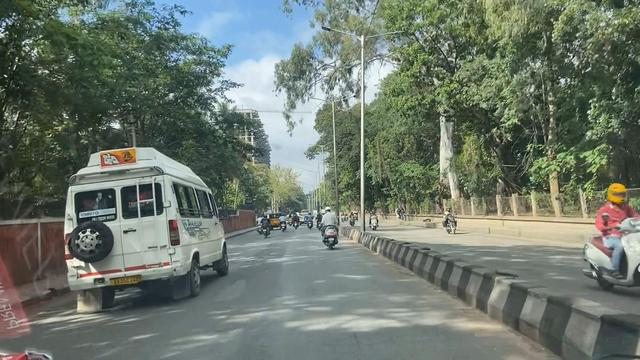HMV: (59, 154, 229, 313)
